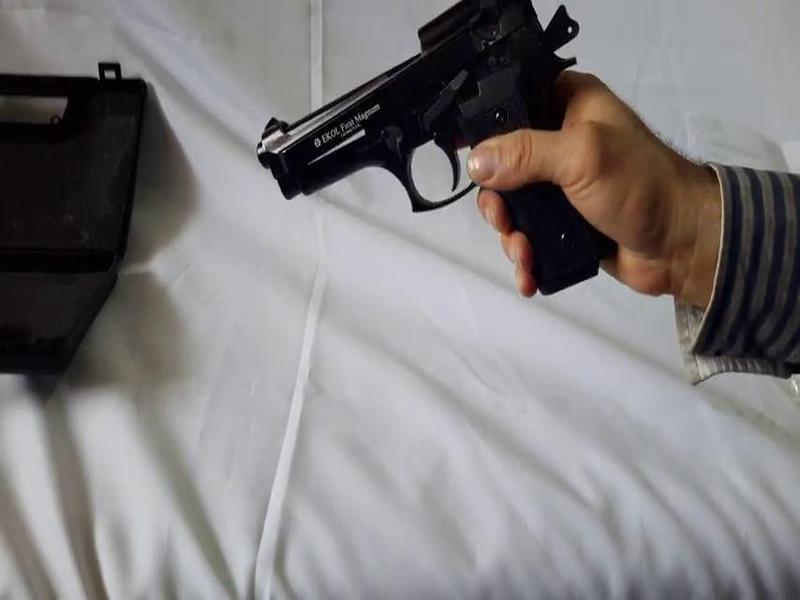Pistola: (235, 4, 637, 325)
